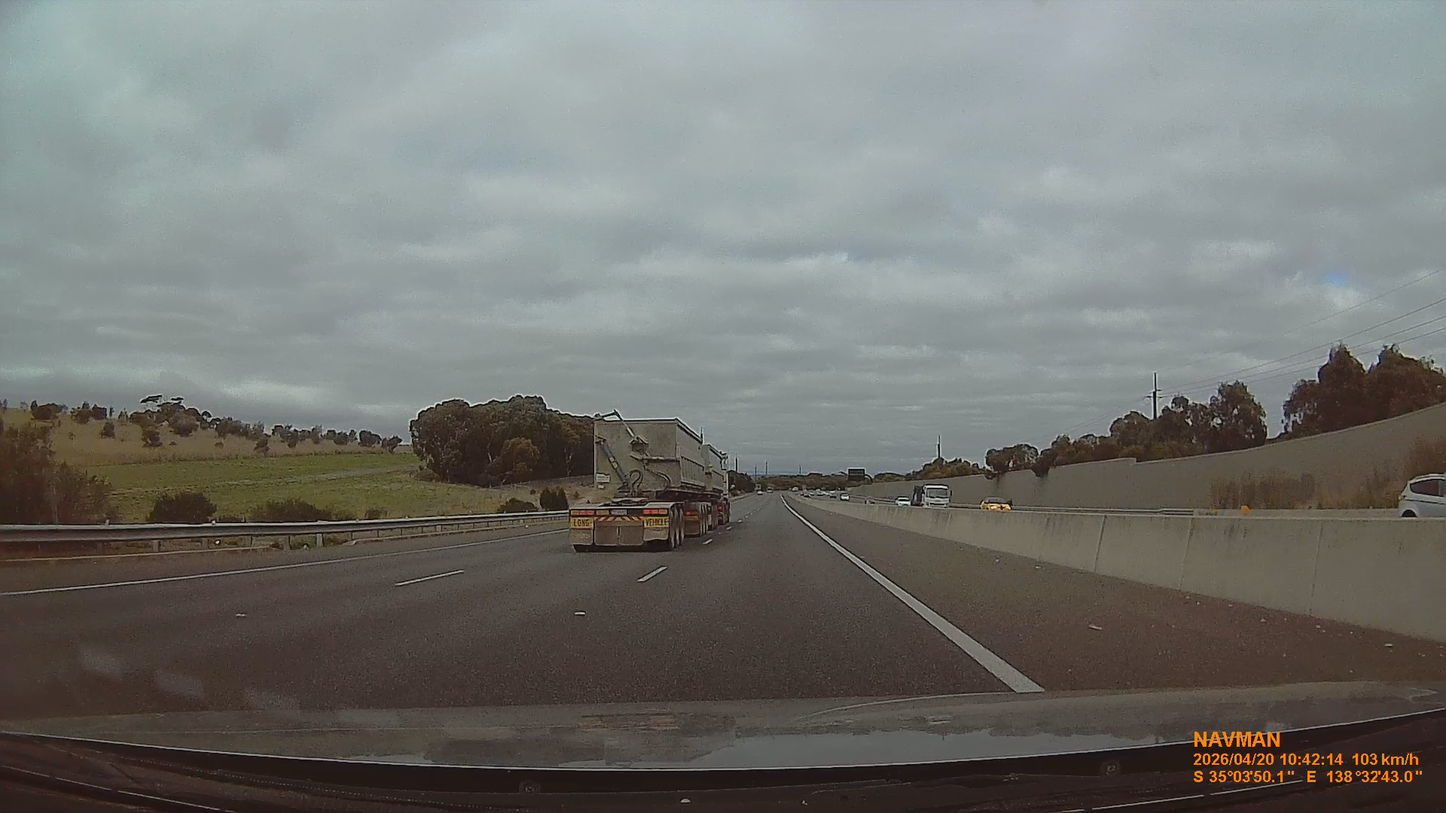road barriers: (798, 499, 1445, 642), (0, 513, 565, 559)
